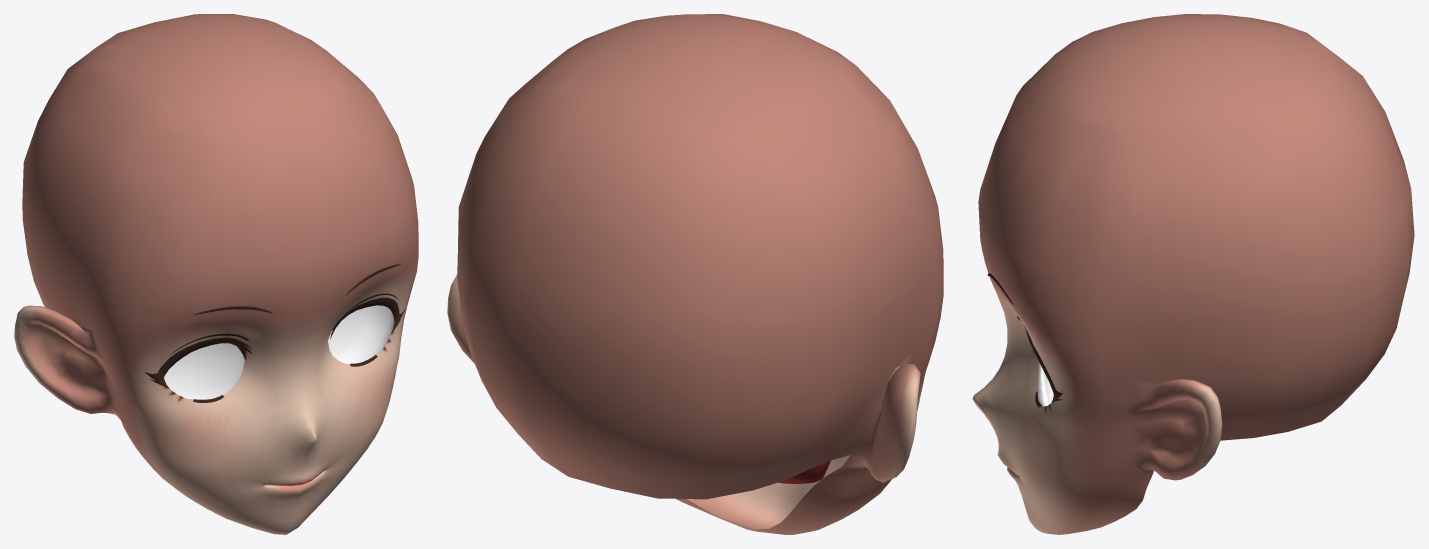
The model's file is Ms_M_TLY_Face.fbx.
The picture shows the model from 3 angles, left to right: view 1: azimuth 30°, elevation 25°; view 2: azimuth 150°, elevation 25°; view 3: azimuth 270°, elevation 25°; orthographic projection. The views are drawn at different scales.
Visible parts, largest first — view 1: Ms_M_PSVR_Face; view 2: Ms_M_PSVR_Face; view 3: Ms_M_PSVR_Face.
Boxes of the visible parts, x1,y1,x2,y2 form: Ms_M_PSVR_Face: (14, 14, 418, 534); Ms_M_PSVR_Face: (447, 14, 943, 534); Ms_M_PSVR_Face: (972, 14, 1414, 534).
Size of the model in its own units: 19.57 by 21.82 by 17.77.
